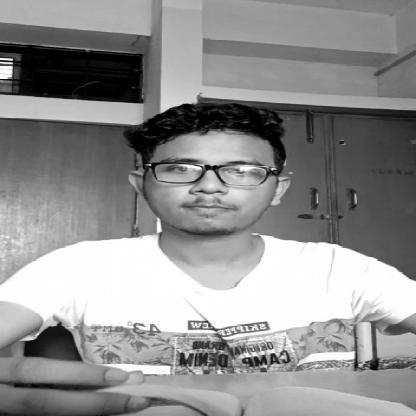Normal: (138, 134, 301, 240)
